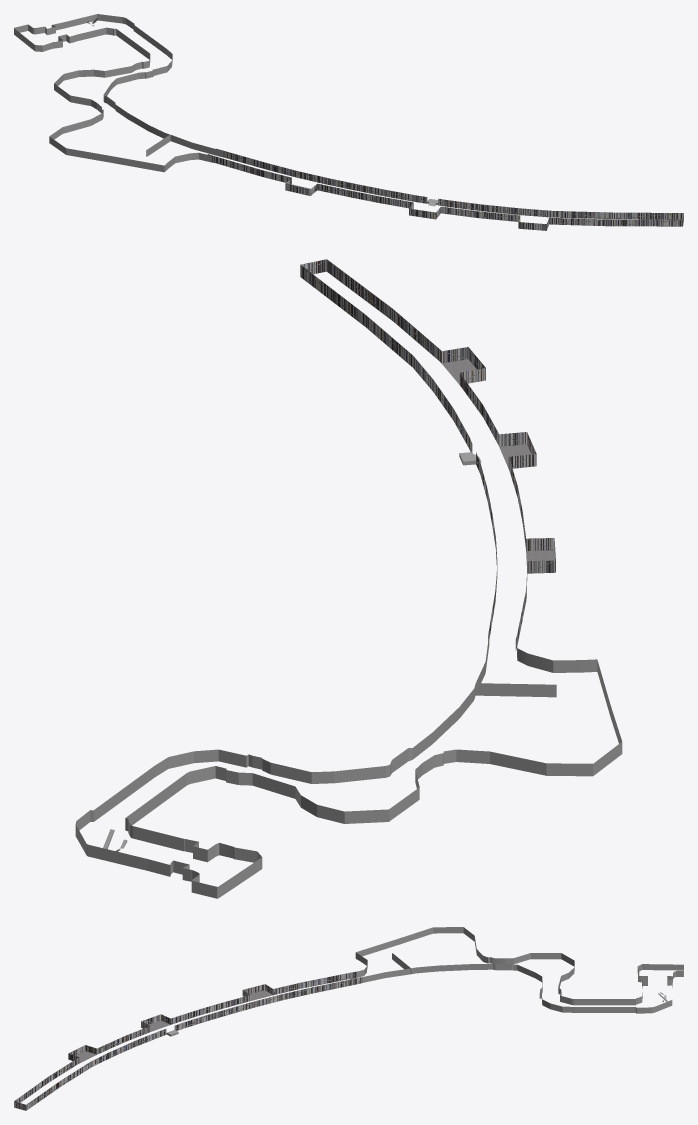
Rendered from Hitboxes.fbx.
3 renders of one model, top to bottom at view 1: azimuth 30°, elevation 25°; view 2: azimuth 150°, elevation 25°; view 3: azimuth 270°, elevation 25°, orthographic. The views are drawn at different scales.
Parts seen in each view (by area): view 1: Dam2, pPlane9; view 2: pPlane9, Dam2; view 3: Dam2, pPlane9.
Boxes of the visible parts, left/top/right/bottom form: Dam2: left=207, top=148, right=683, bottom=230; pPlane9: left=14, top=14, right=221, bottom=172; pPlane9: left=75, top=634, right=622, bottom=898; Dam2: left=300, top=259, right=555, bottom=650; Dam2: left=14, top=971, right=362, bottom=1110; pPlane9: left=350, top=927, right=683, bottom=1013.
Size of the model in its own units: 64.22 by 1.68 by 102.
2 materials, 1 textured.
